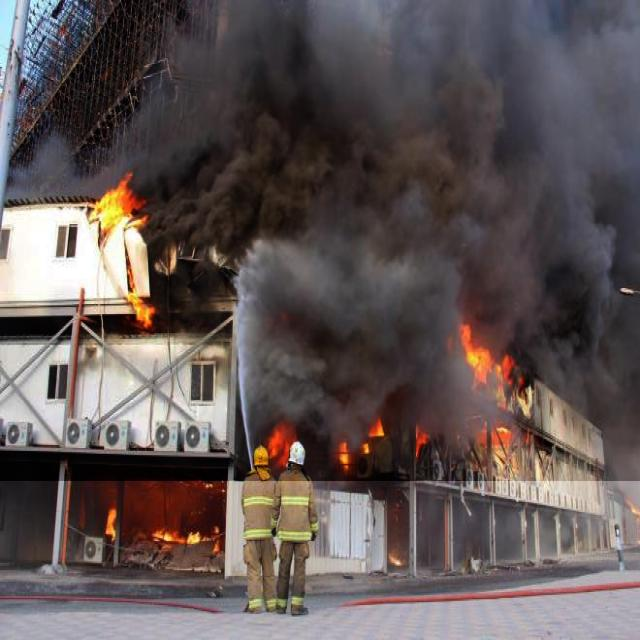Fire: (261, 329, 528, 468), (83, 176, 161, 334), (94, 470, 223, 555)
Smoke: (0, 0, 640, 481)
